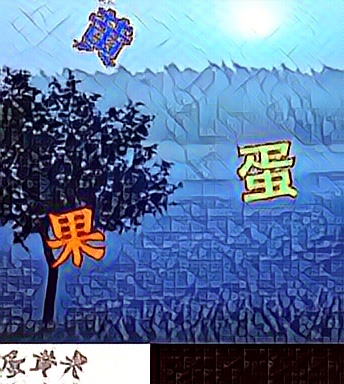B5B0: (234, 138, 296, 202)
B9FB: (45, 204, 107, 268)
BBC6: (72, 4, 134, 68)
